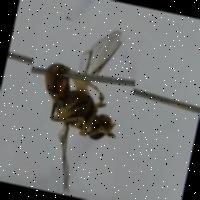Oriental-fruit-fly: (7, 14, 144, 200)
